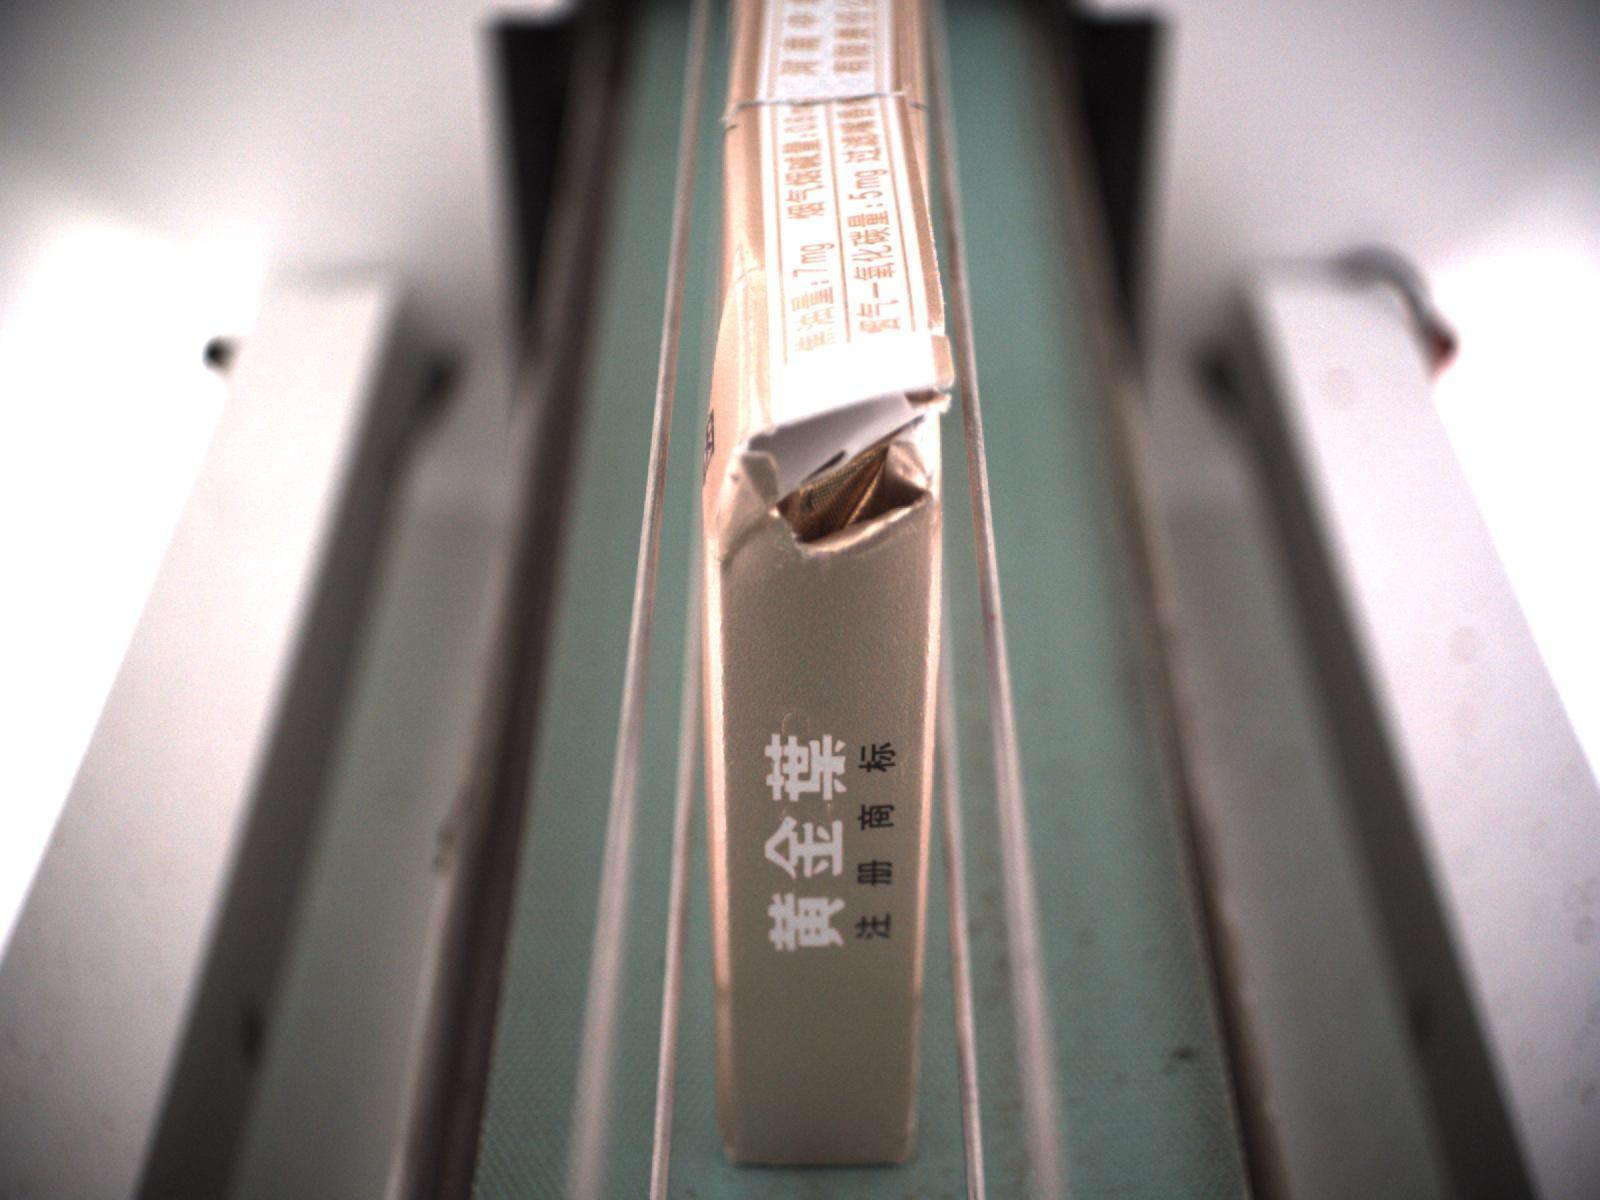cornerBreak: (700, 371, 955, 562)
